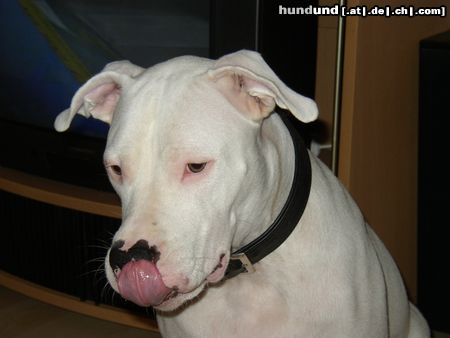dogo_argentino: (53, 48, 430, 338)
